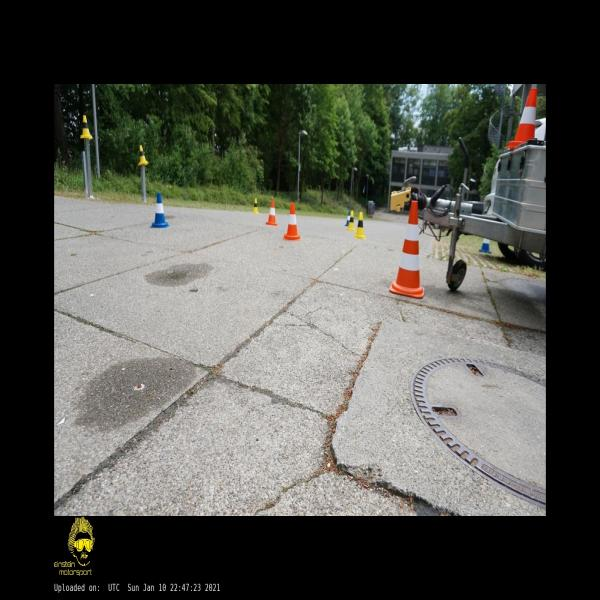blue_cone: (150, 193, 170, 228), (479, 238, 491, 254), (345, 211, 350, 226)
large_orange_cone: (389, 200, 424, 299)
orange_cone: (503, 88, 537, 149), (284, 202, 300, 241), (264, 200, 278, 226)
yellow_cone: (354, 211, 366, 239), (80, 115, 94, 139), (138, 144, 149, 166), (347, 211, 355, 231), (252, 198, 259, 214)
